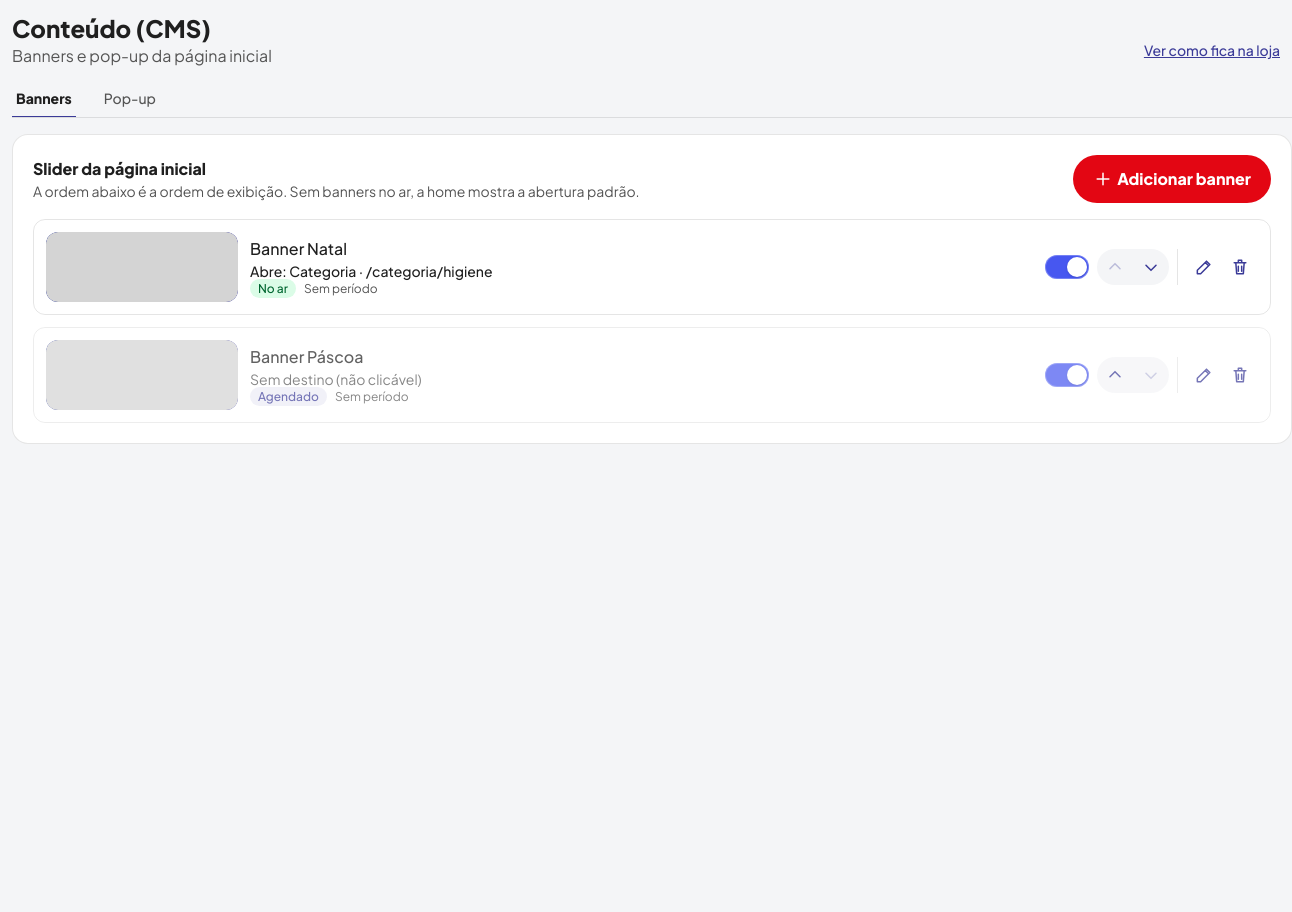
it: CMS: pop-up › a pré-visualização acompanha os campos e usa "Título do pop-up" quando vazio
Click the tab "Pop-up" at x=130, y=103, box [100,88,160,118]
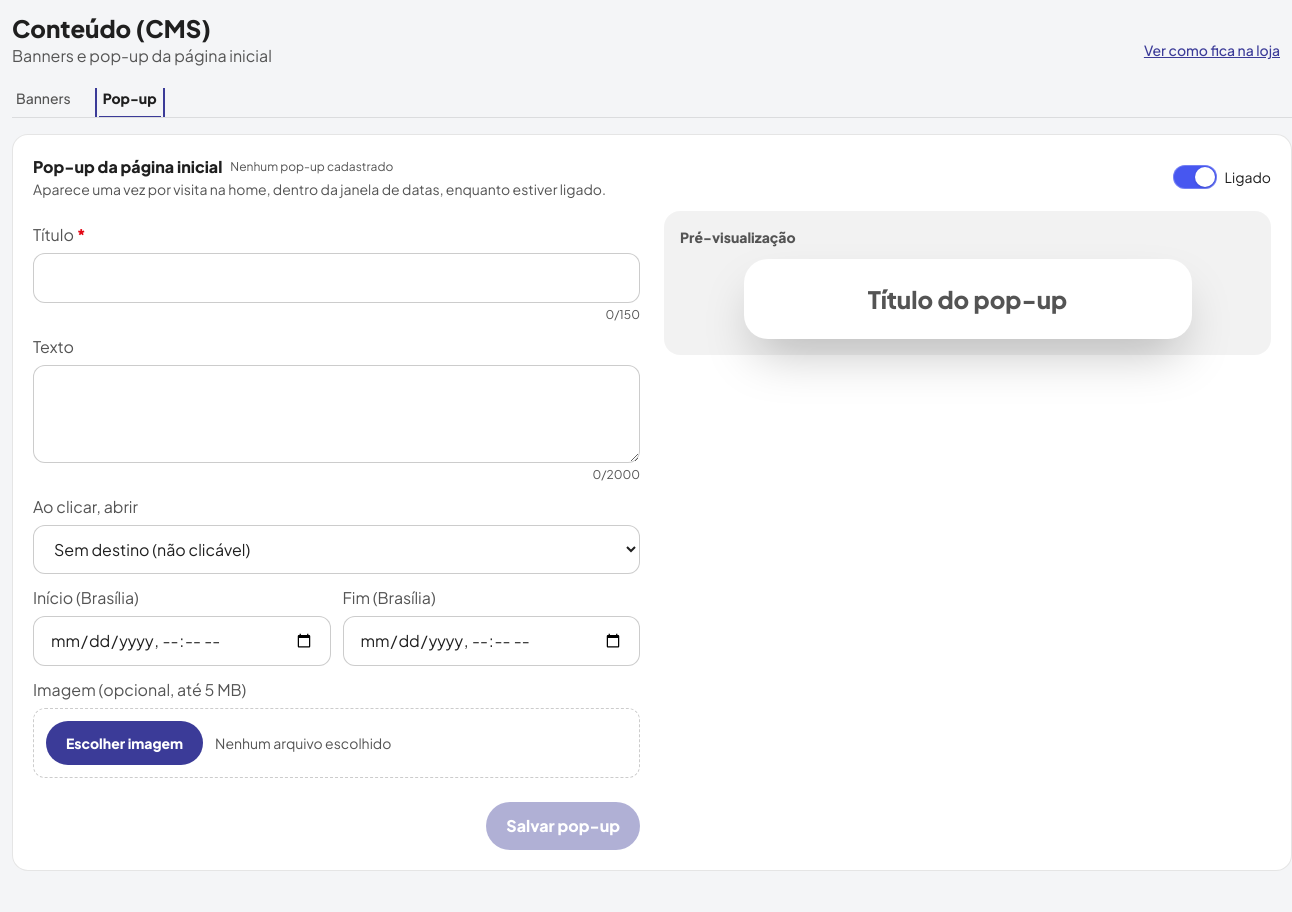
Expected: the heading "Pop-up da página inicial" is shown, [33,155,222,179]
Expected: the heading "Título do pop-up" is shown, [868,284,1067,314]
Type "Super oferta" into the field labelled "Título *" at x=336, y=278, box [33,253,640,303]
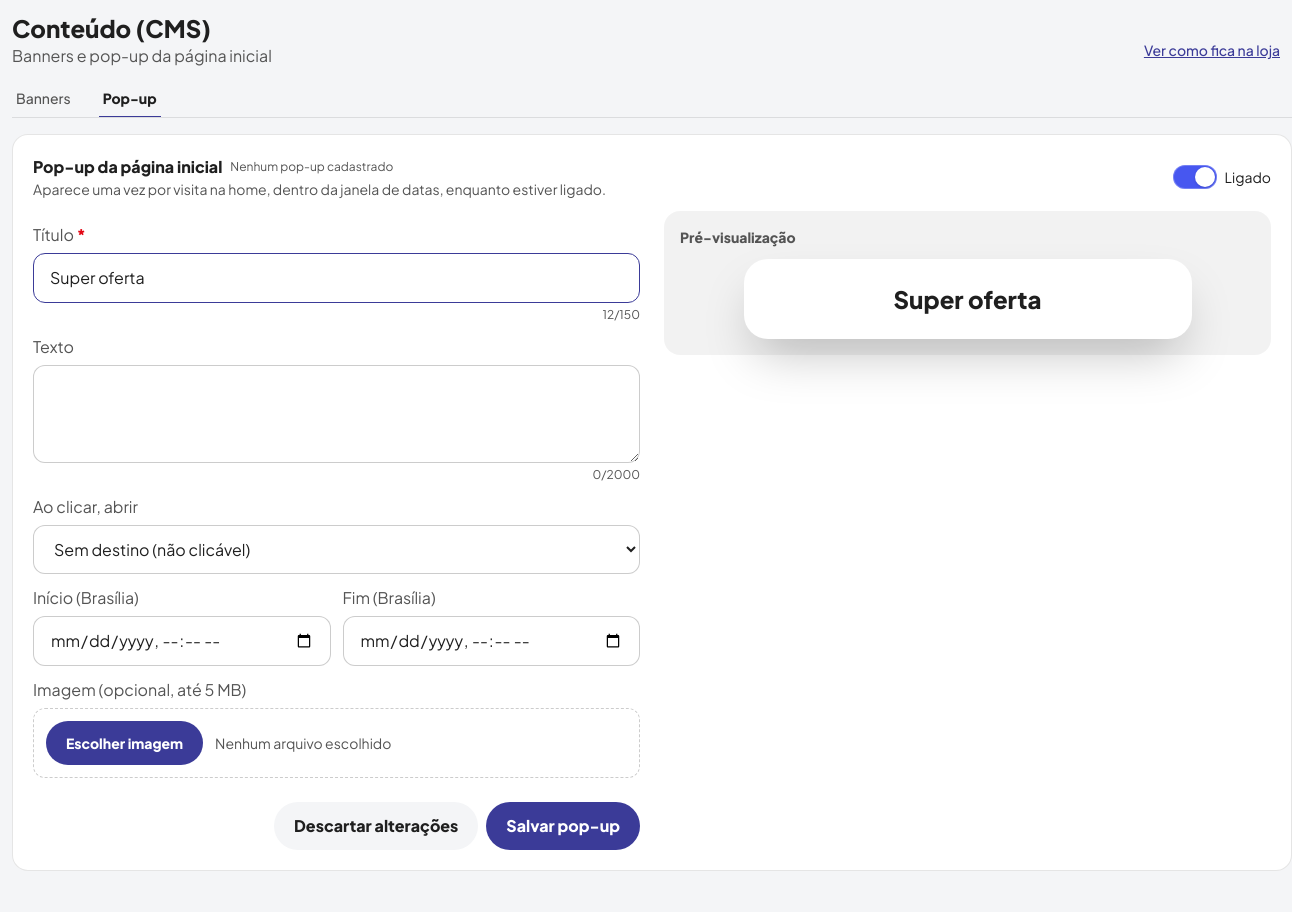
Type "Só hoje" into the text box labelled "Texto" at x=336, y=414, box [33,365,640,463]
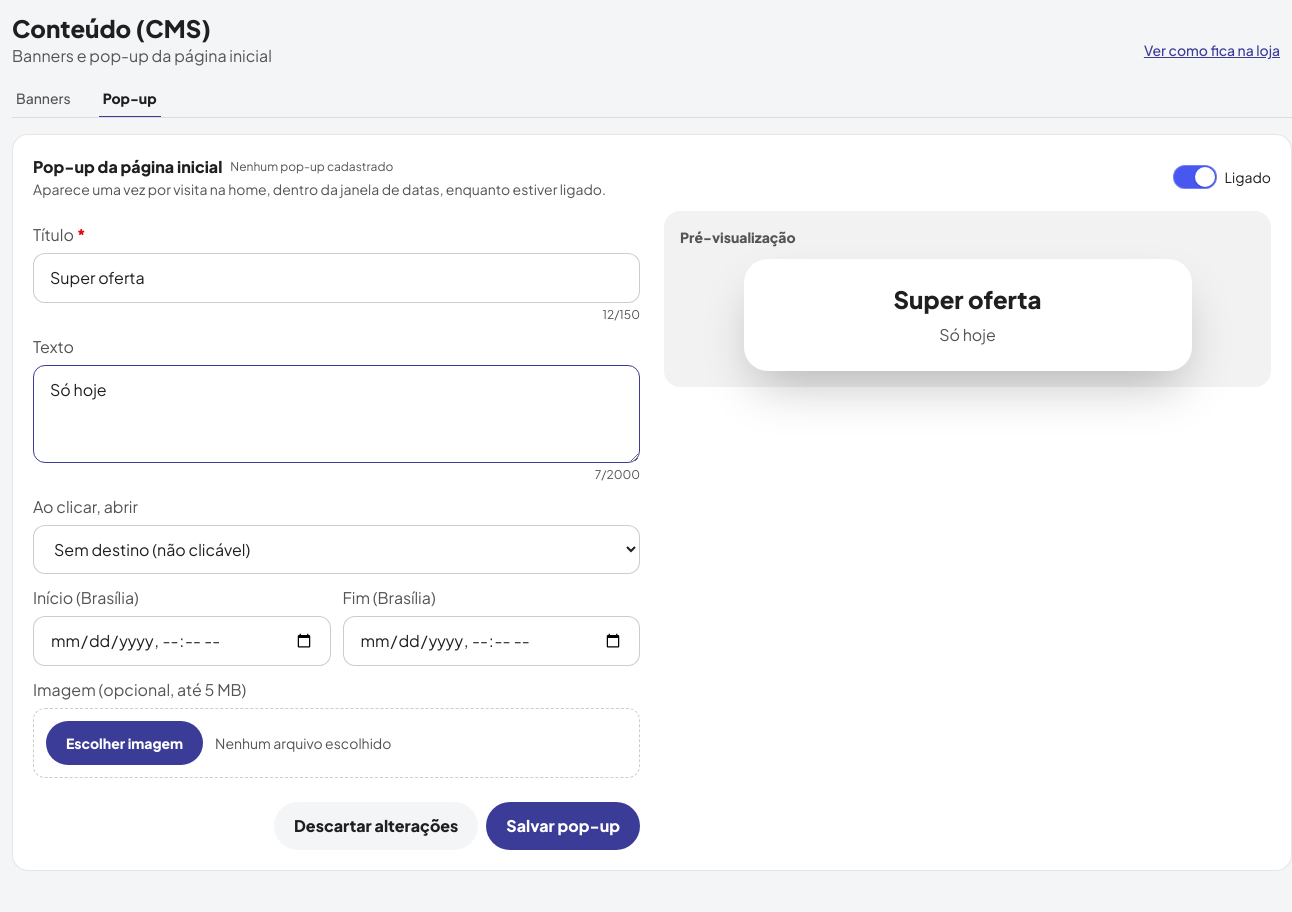
Expected: the heading "Super oferta" is shown, [894,284,1041,314]
Expected: the text "Só hoje" is shown, [939,324,996,345]
